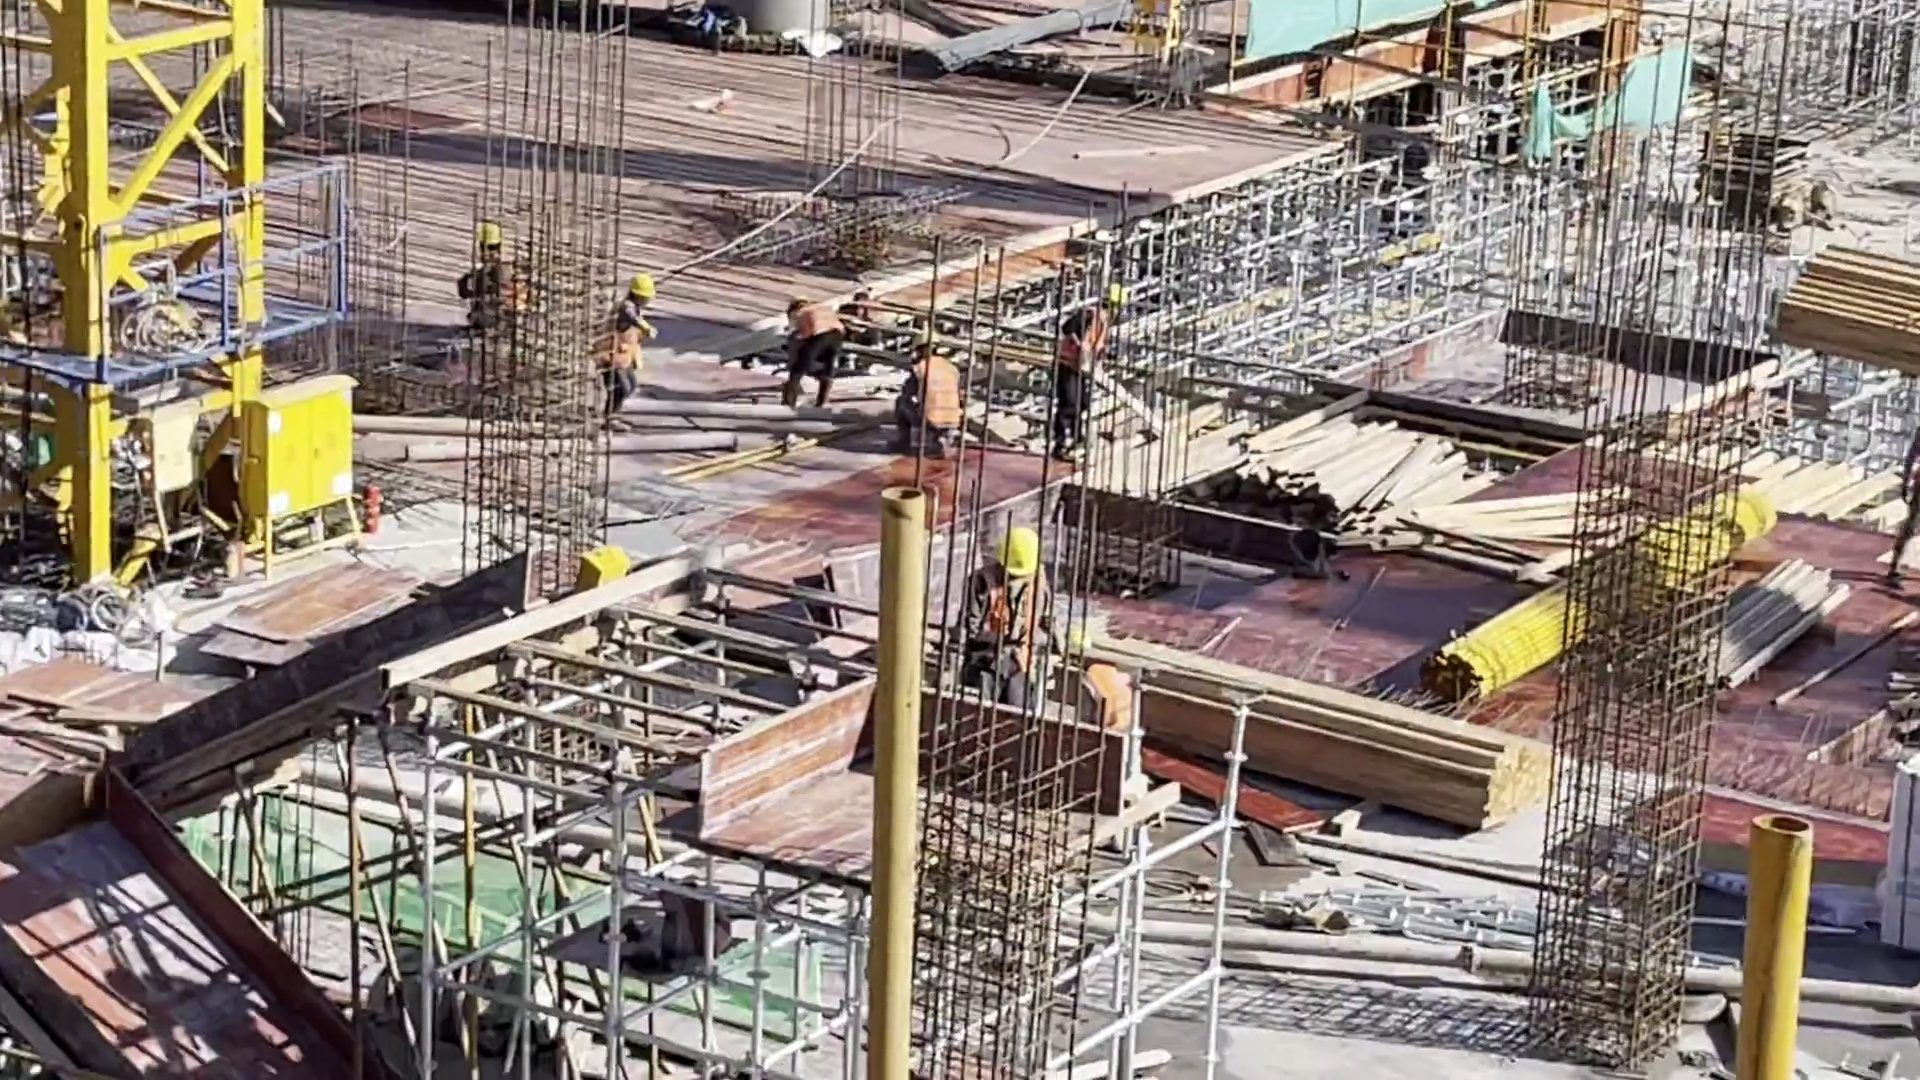ebox: (244, 391, 374, 503)
helmet: (968, 527, 1043, 574), (617, 269, 652, 307), (477, 217, 514, 252), (908, 316, 946, 350), (1097, 277, 1133, 308), (1056, 632, 1095, 659)
person: (970, 531, 1058, 718), (574, 278, 668, 443), (1055, 273, 1124, 474), (767, 291, 860, 432), (885, 328, 964, 463), (1051, 627, 1136, 741), (457, 225, 520, 335)
vest: (966, 577, 1061, 670), (1066, 669, 1127, 725), (1061, 305, 1115, 368), (914, 356, 964, 417), (601, 307, 649, 366), (787, 305, 846, 333)
wood: (1226, 420, 1422, 560)
